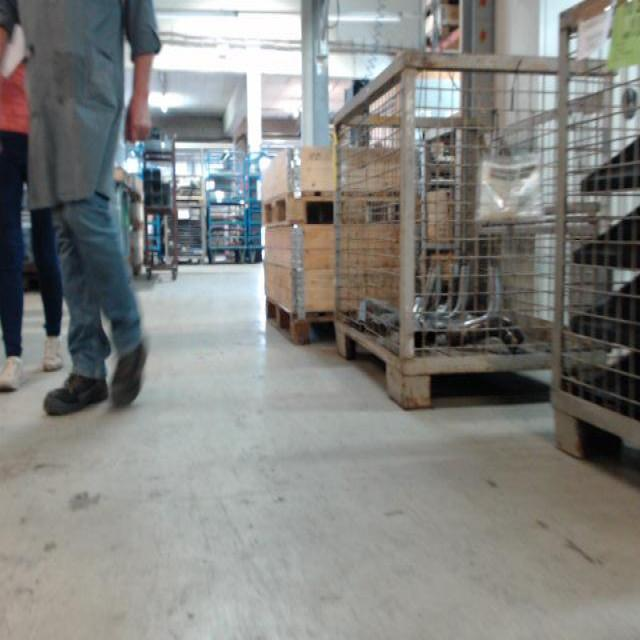pallet: (260, 188, 421, 229), (265, 296, 344, 347), (425, 23, 458, 49), (423, 0, 461, 18)
stillage: (327, 53, 623, 407), (540, 1, 638, 485), (159, 200, 204, 265), (166, 170, 206, 207)
